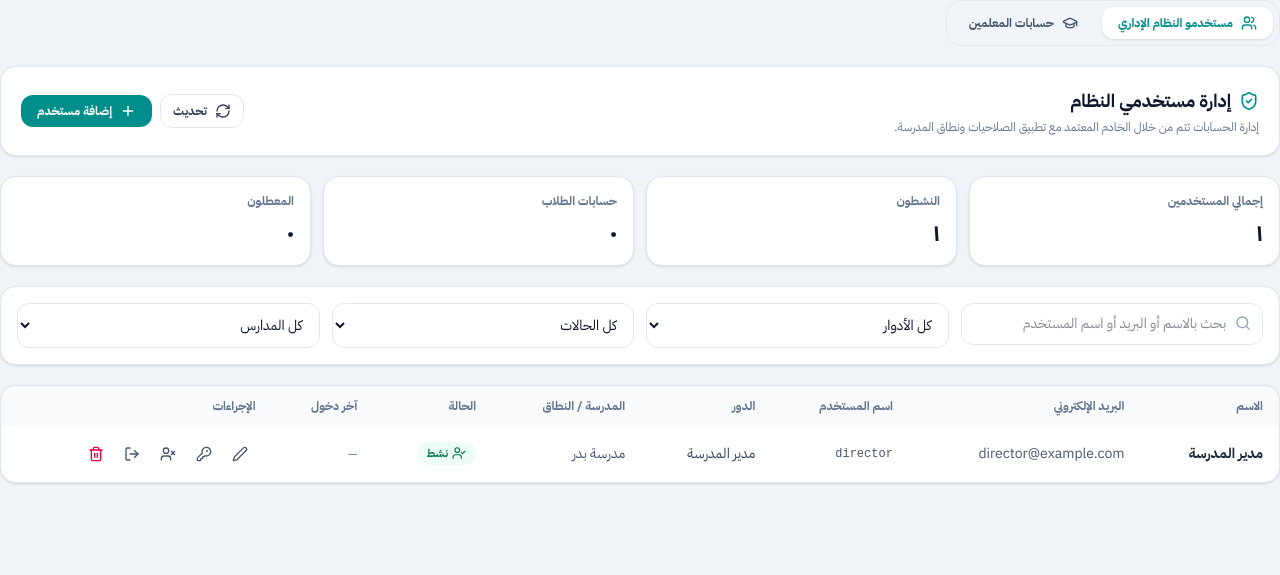
Scenario: PHASE 3C-A15.2 — UsersView authoritative multi-school UI › refreshes authoritative list after successful status mutation and does not optimistically patch on failure
The image size is (1280, 575).
Click the button titled "تغيير الحالة" at (168, 454), box [152,438,184,470]
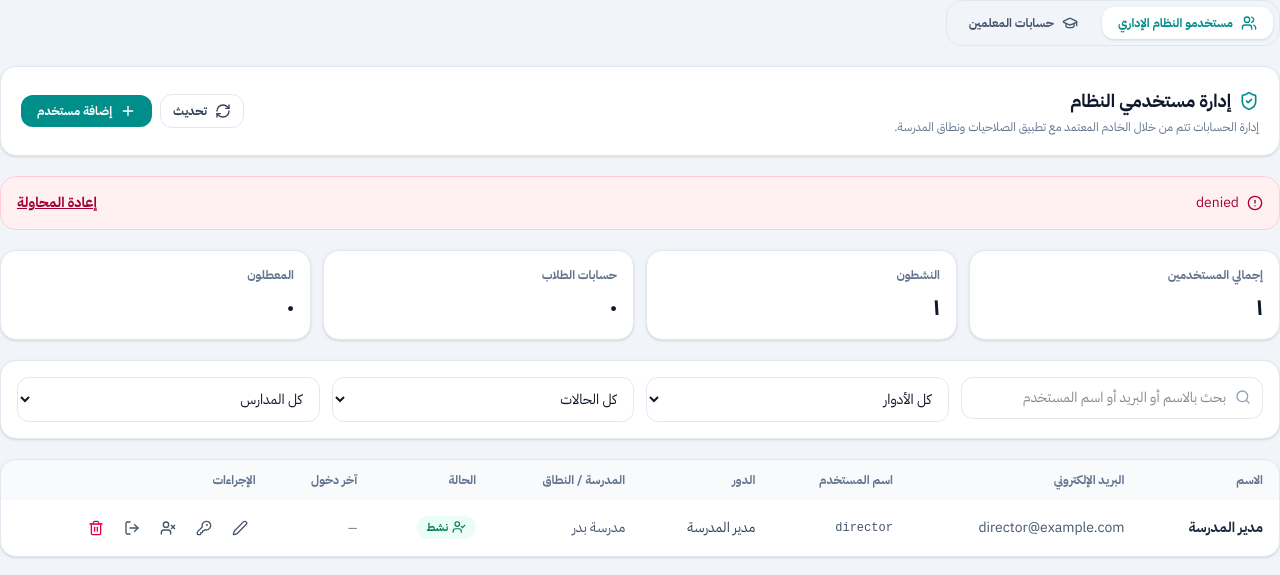
Check: the text "نشط" is shown, box [896,266,940,284]
Check: the text "denied" is shown, box [1196,193,1263,213]
